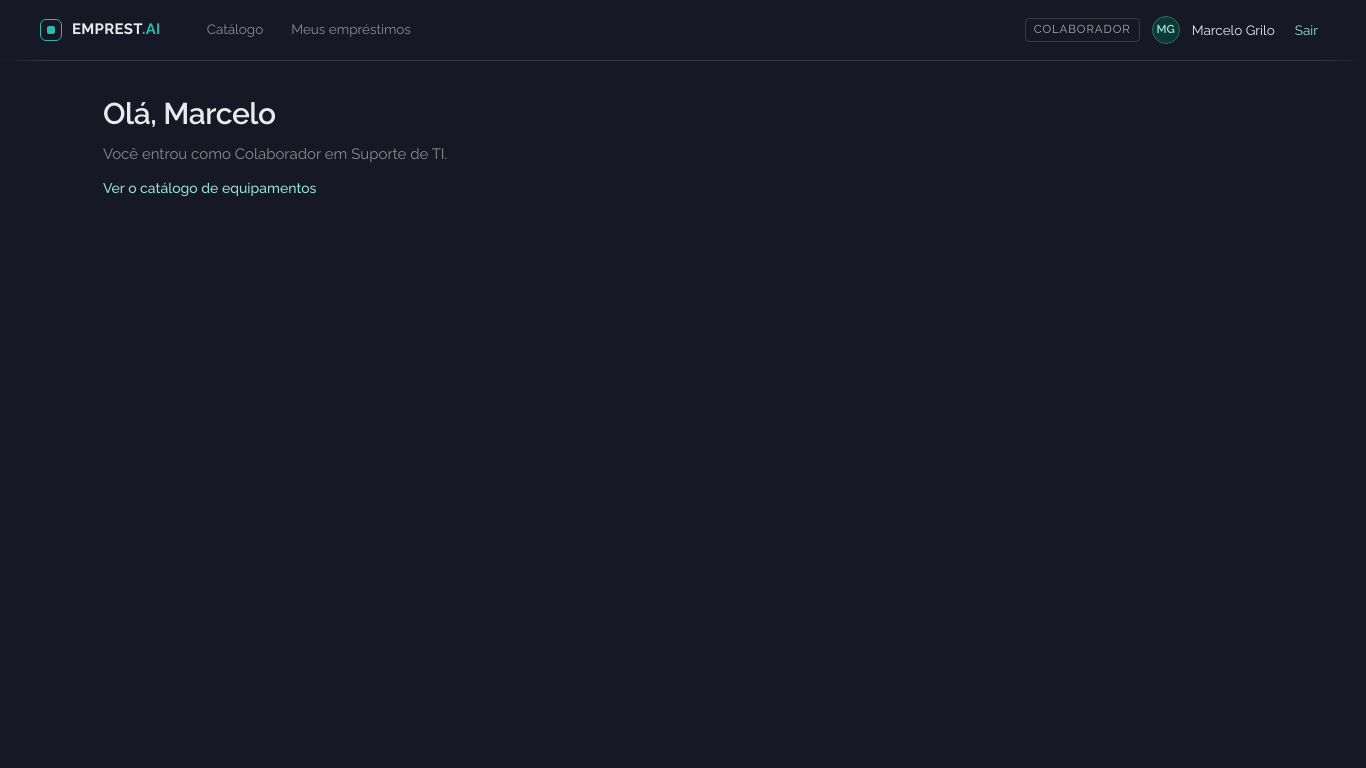
login › CA-5: Sair encerra a sessão no Auth, leva a /entrar e /inicio volta a redirecionar
Click the button "Sair". click: coordinates (1306, 30)
box: [1287,16,1326,44]
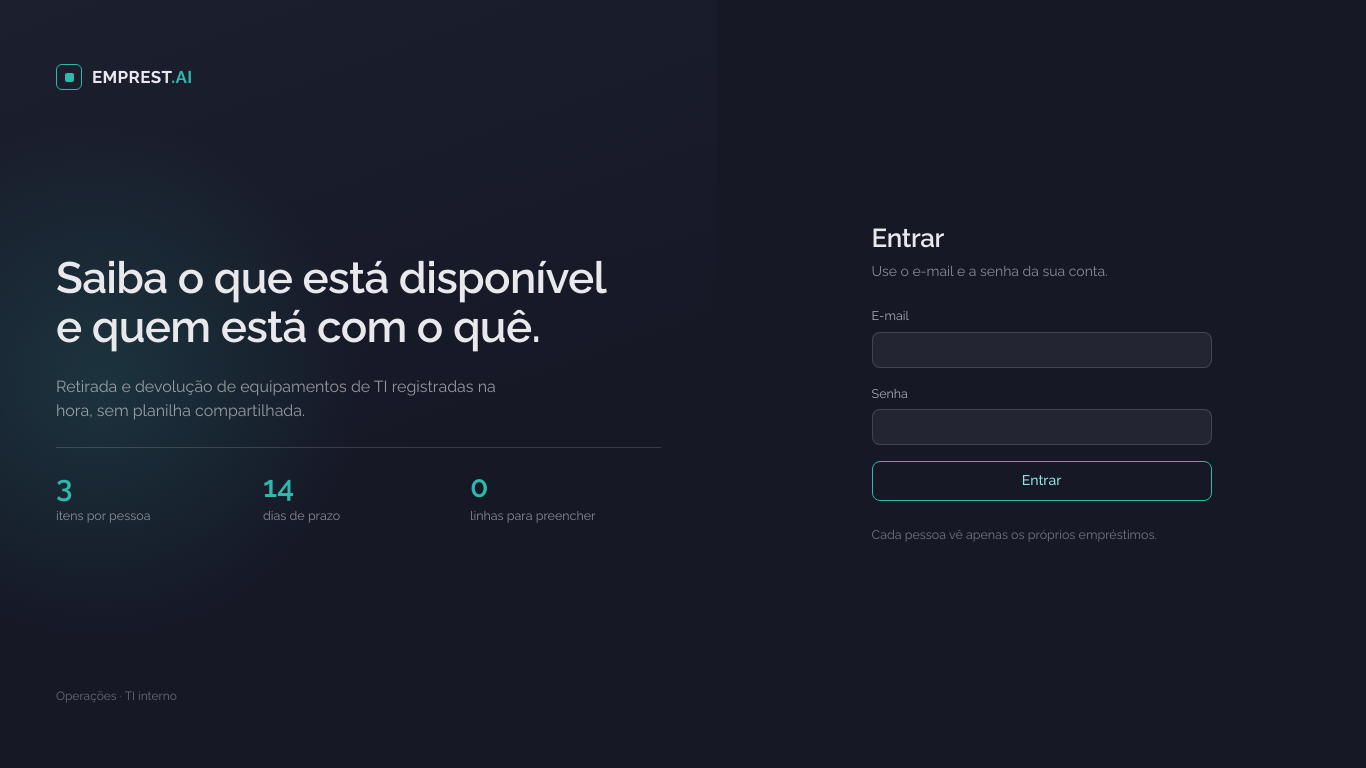
Now the heading "Entrar" is shown, box [872,222,944,252]
